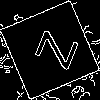Z: (25, 25, 79, 71)
